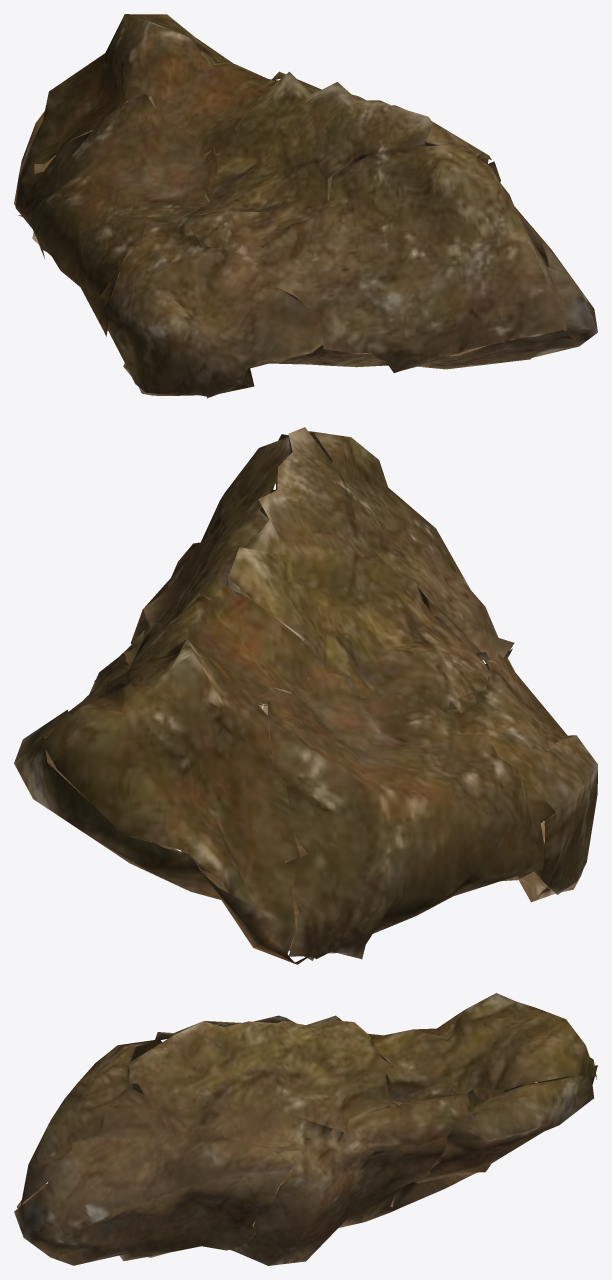
Rendered from mossy_rock_1.glb.
The picture shows the model from 3 angles, top to bottom: view 1: azimuth 30°, elevation 25°; view 2: azimuth 150°, elevation 25°; view 3: azimuth 270°, elevation 25°; orthographic projection. The views are drawn at different scales.
Parts seen in each view (by area): view 1: mossy_rock_1; view 2: mossy_rock_1; view 3: mossy_rock_1.
Part boxes in pixels (bbox=[...]): mossy_rock_1: bbox=[14, 14, 597, 398]; mossy_rock_1: bbox=[14, 427, 597, 964]; mossy_rock_1: bbox=[14, 993, 597, 1265].
Bounding box in the file's own units: 2.27 × 1.48 × 3.39.
Materials: 1 (1 with a texture image).
